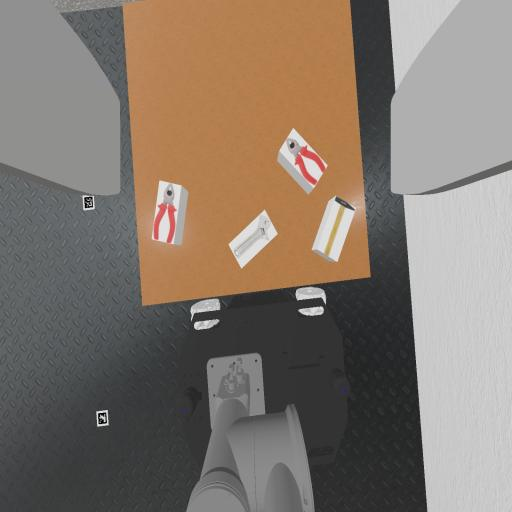hammer: (325, 197, 354, 255)
pliers: (287, 139, 325, 184), (154, 184, 176, 242)
wrench: (235, 216, 271, 257)
